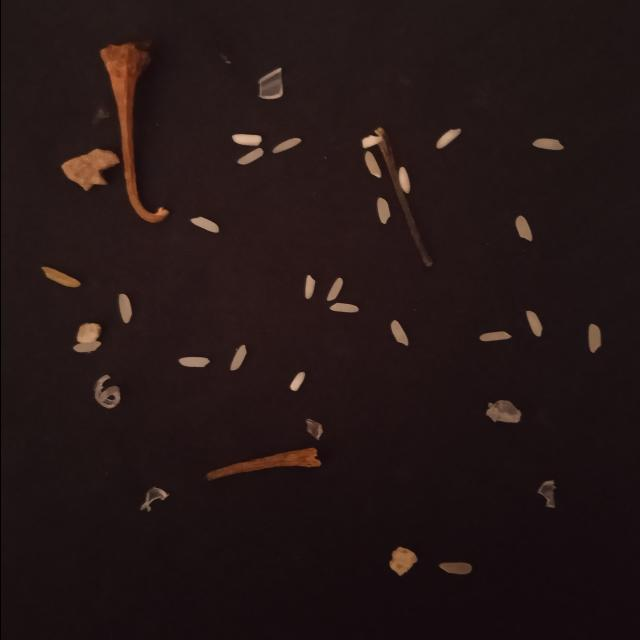Broken: (40, 266, 80, 288), (288, 372, 304, 392), (361, 134, 382, 148)
Full: (435, 128, 460, 148), (190, 216, 218, 233), (364, 150, 381, 178), (390, 320, 408, 346), (524, 310, 542, 336), (514, 216, 532, 242), (272, 138, 300, 154), (117, 294, 131, 324), (586, 323, 600, 353), (229, 344, 245, 370), (236, 148, 262, 164), (438, 562, 472, 574), (531, 138, 563, 150), (326, 278, 342, 302), (376, 198, 390, 224), (71, 341, 101, 353), (231, 134, 261, 146), (478, 331, 512, 341), (177, 357, 209, 367), (398, 167, 410, 193), (328, 302, 358, 312), (304, 275, 316, 299)
